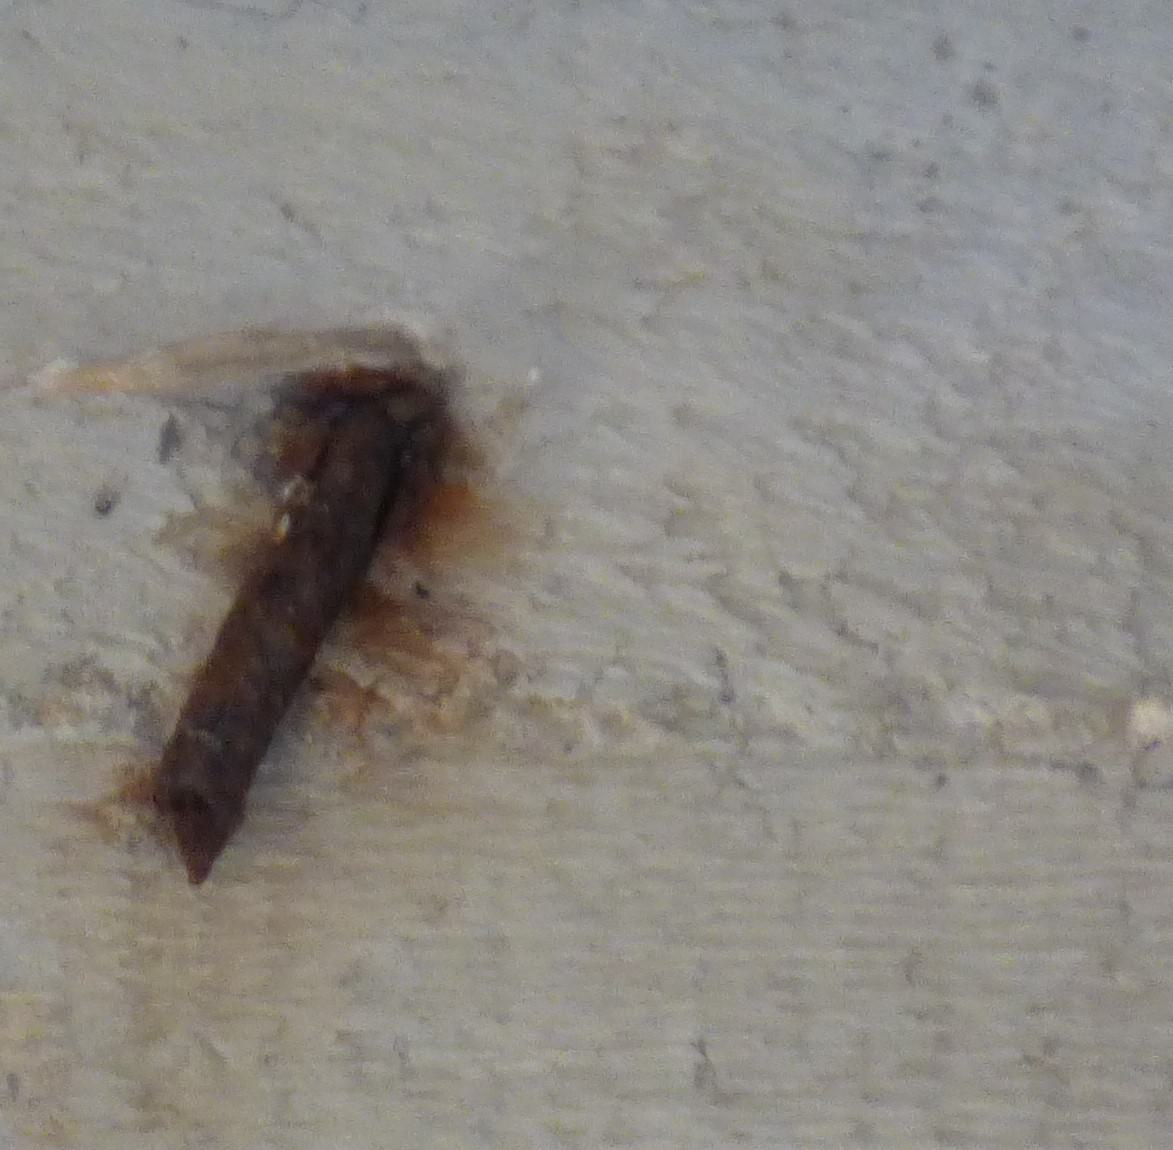Exposed reinforcement: (154, 398, 394, 889)
